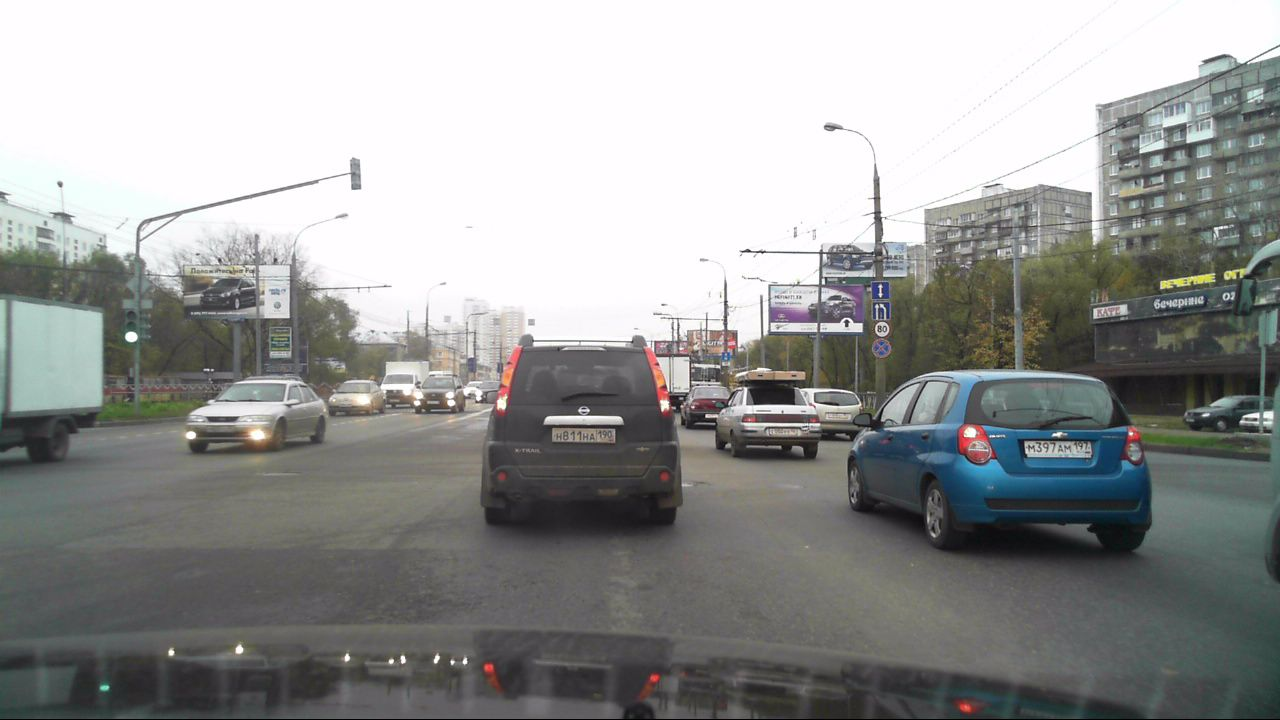No Parking: (871, 339, 891, 359)
